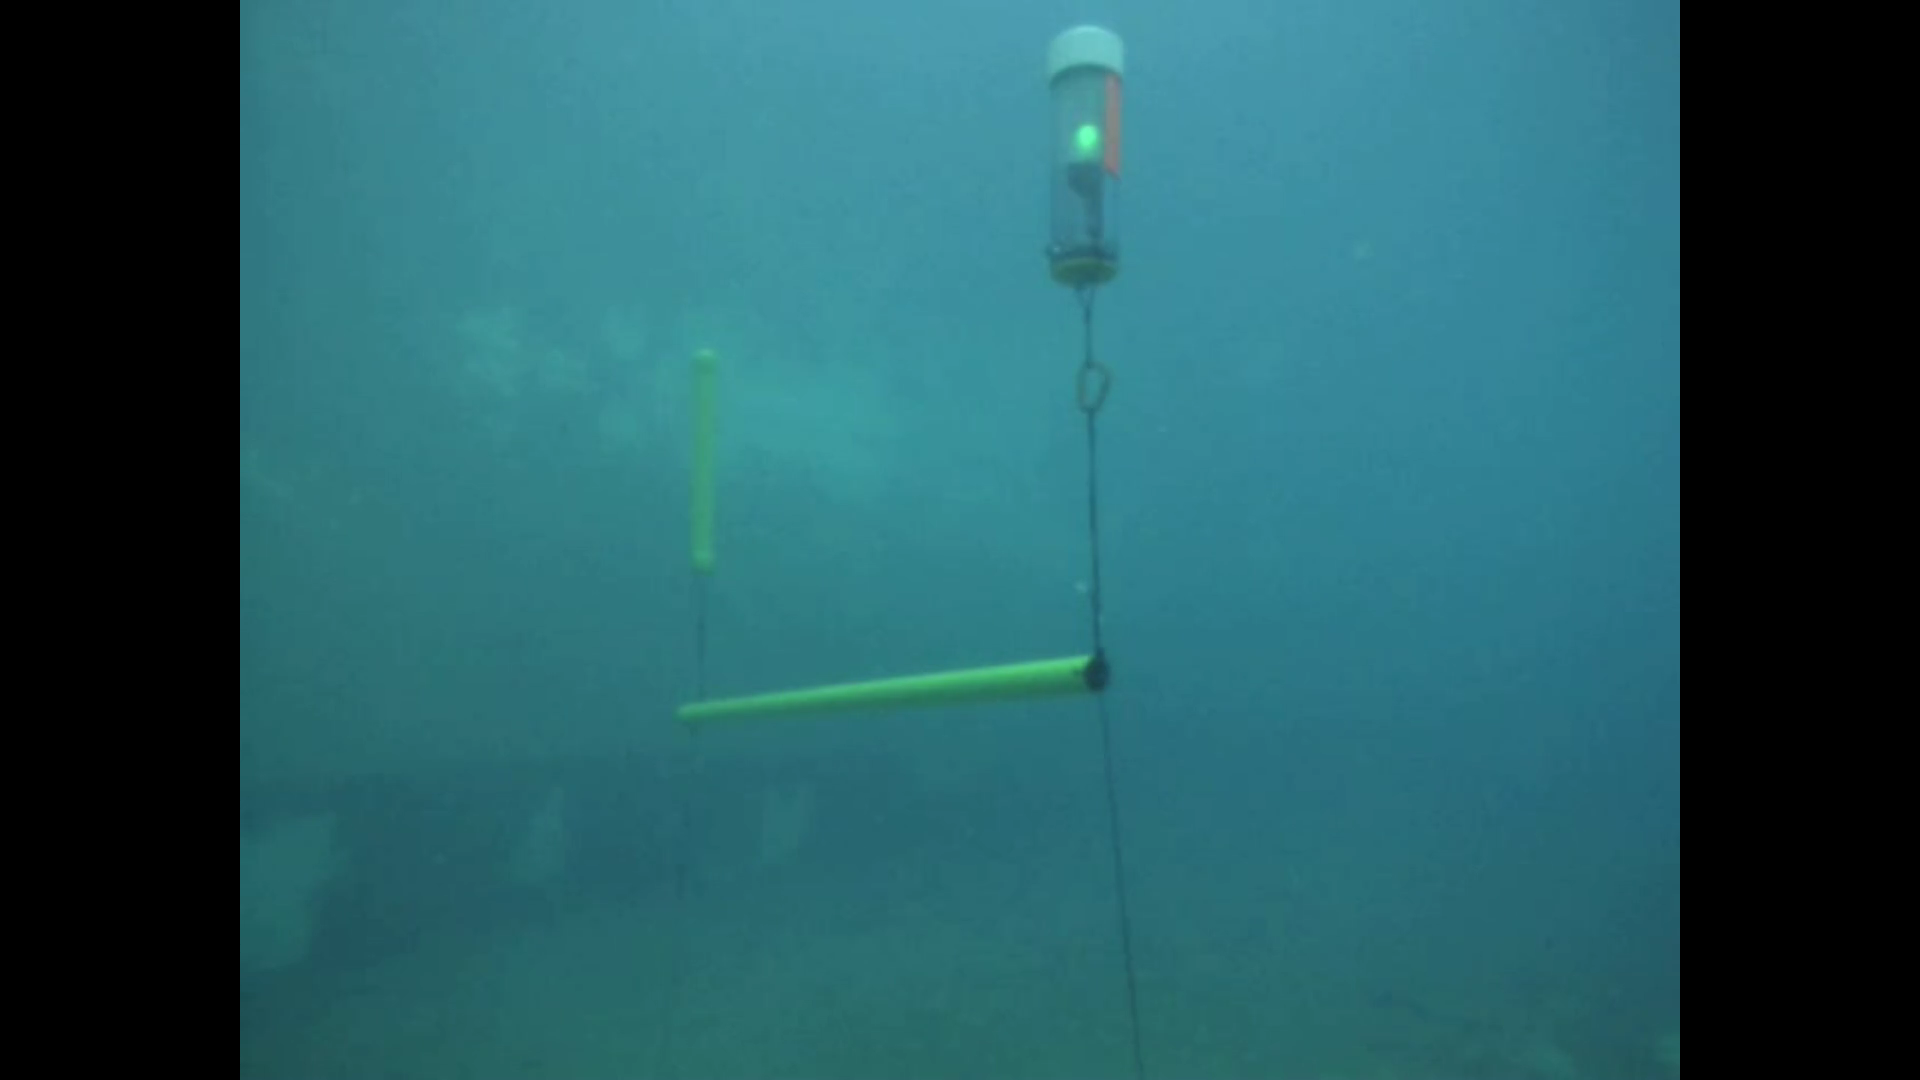gate: (673, 340, 1127, 731)
